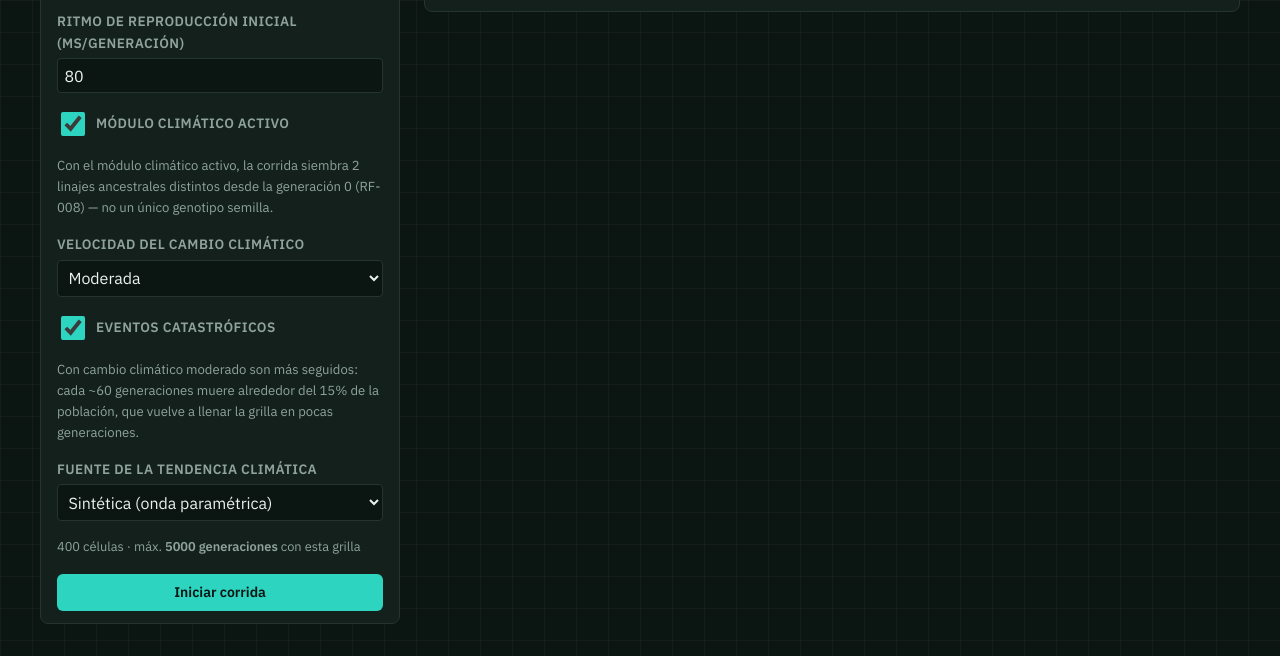
<App /> › RF-023: Pausar envía 'pause' por el WS y cambia a Reanudar; Reanudar envía 'resume'
This screenshot has width=1280, height=656.
(page scrolled)
What coordinates should you click on to do the following:
click the button "Iniciar corrida"
I would click on:
 (220, 592)
Its box is [57,574,383,611].
(page scrolled)
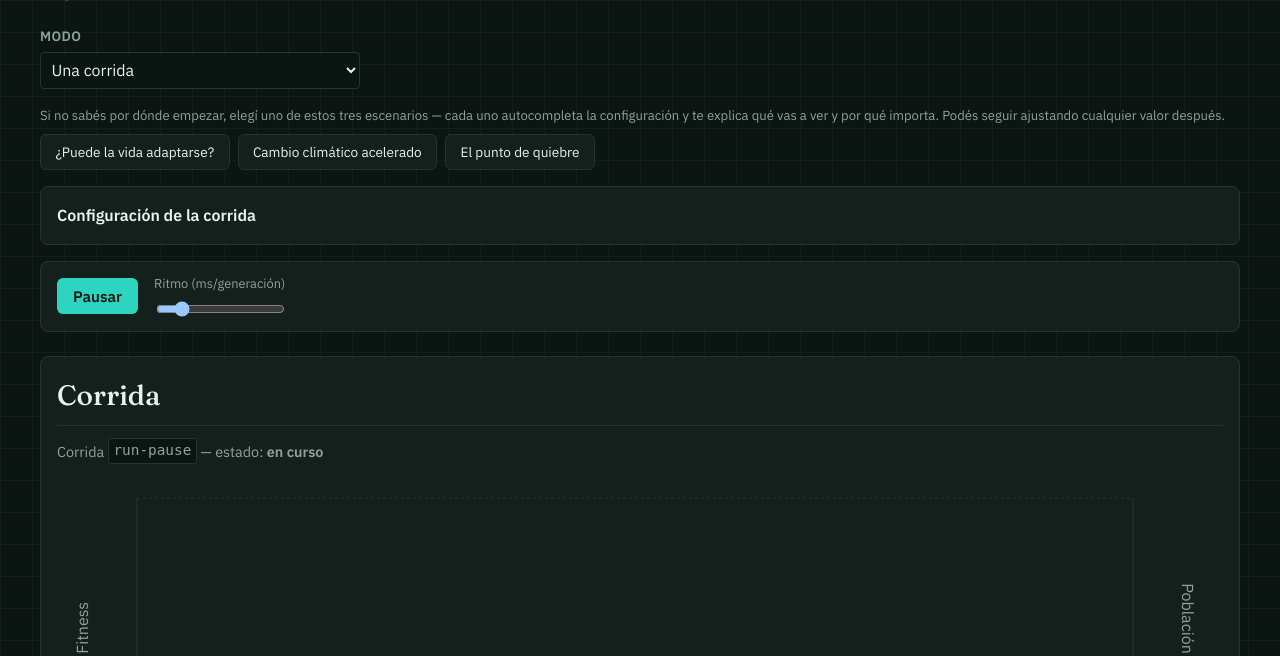
What coordinates should you click on to do the following:
click the button "Pausar"
I would click on:
 (98, 296)
Its box is [57,278,138,314].
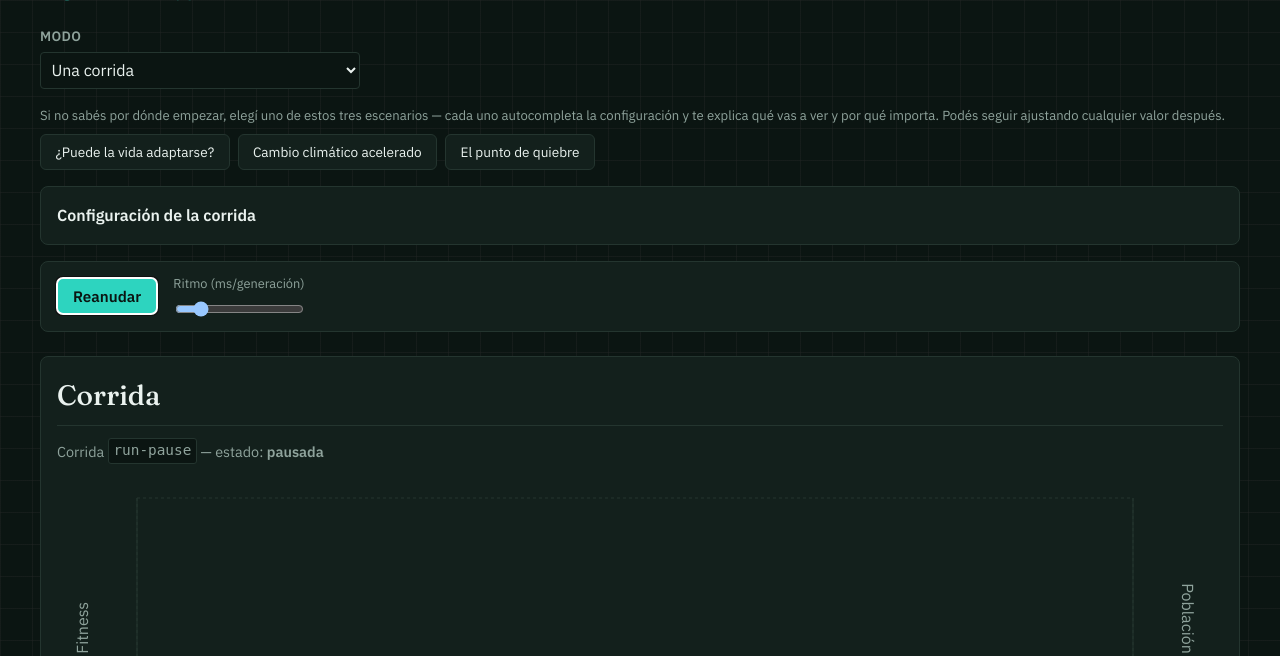
Result: the button "Reanudar" is shown
What coordinates should you click on to do the following:
click the button "Reanudar"
I would click on:
 (107, 296)
Its box is [57,278,157,314].
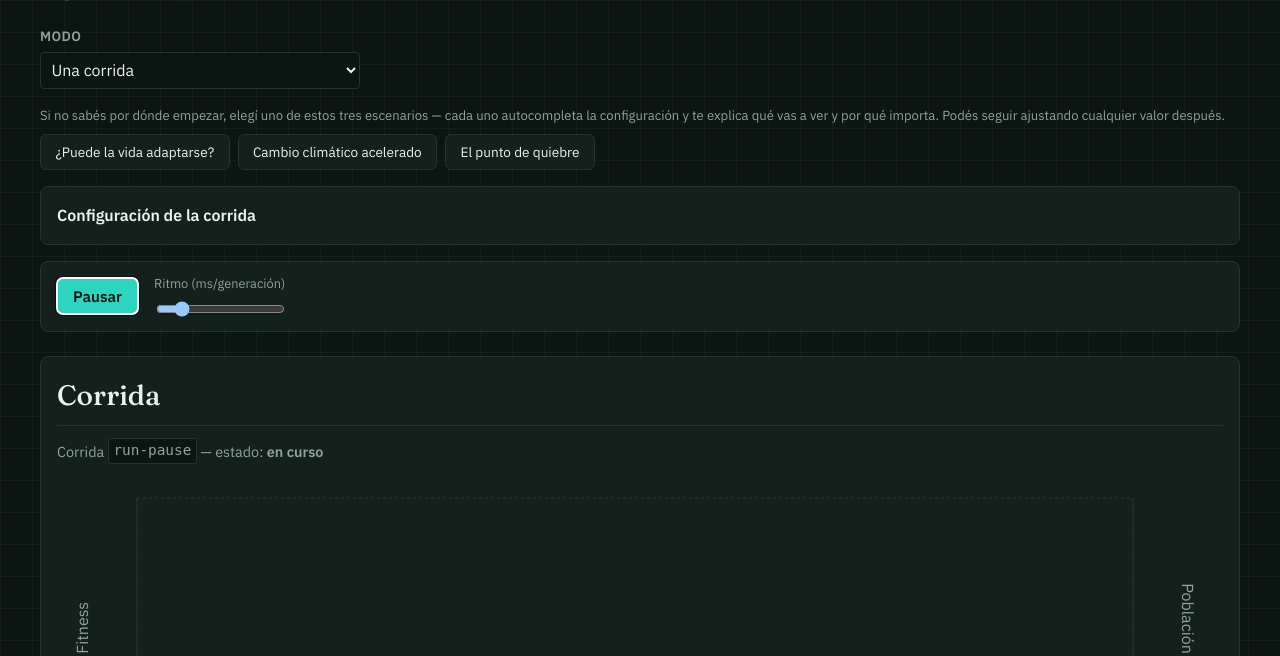
Result: the button "Pausar" is shown at [57,278,138,314]
